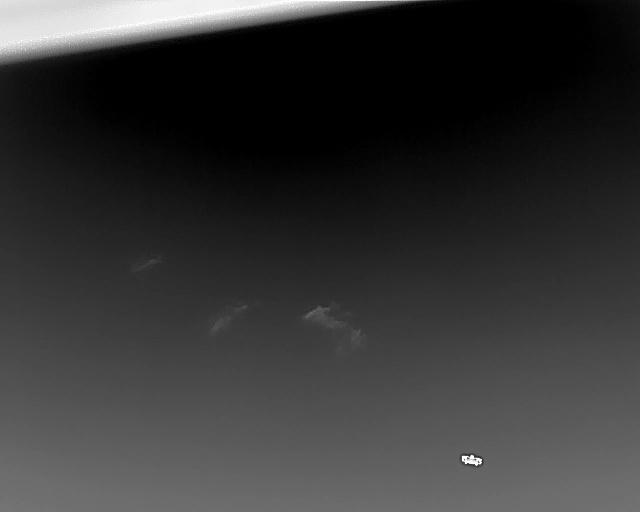fpv-drone: (460, 453, 483, 466)
